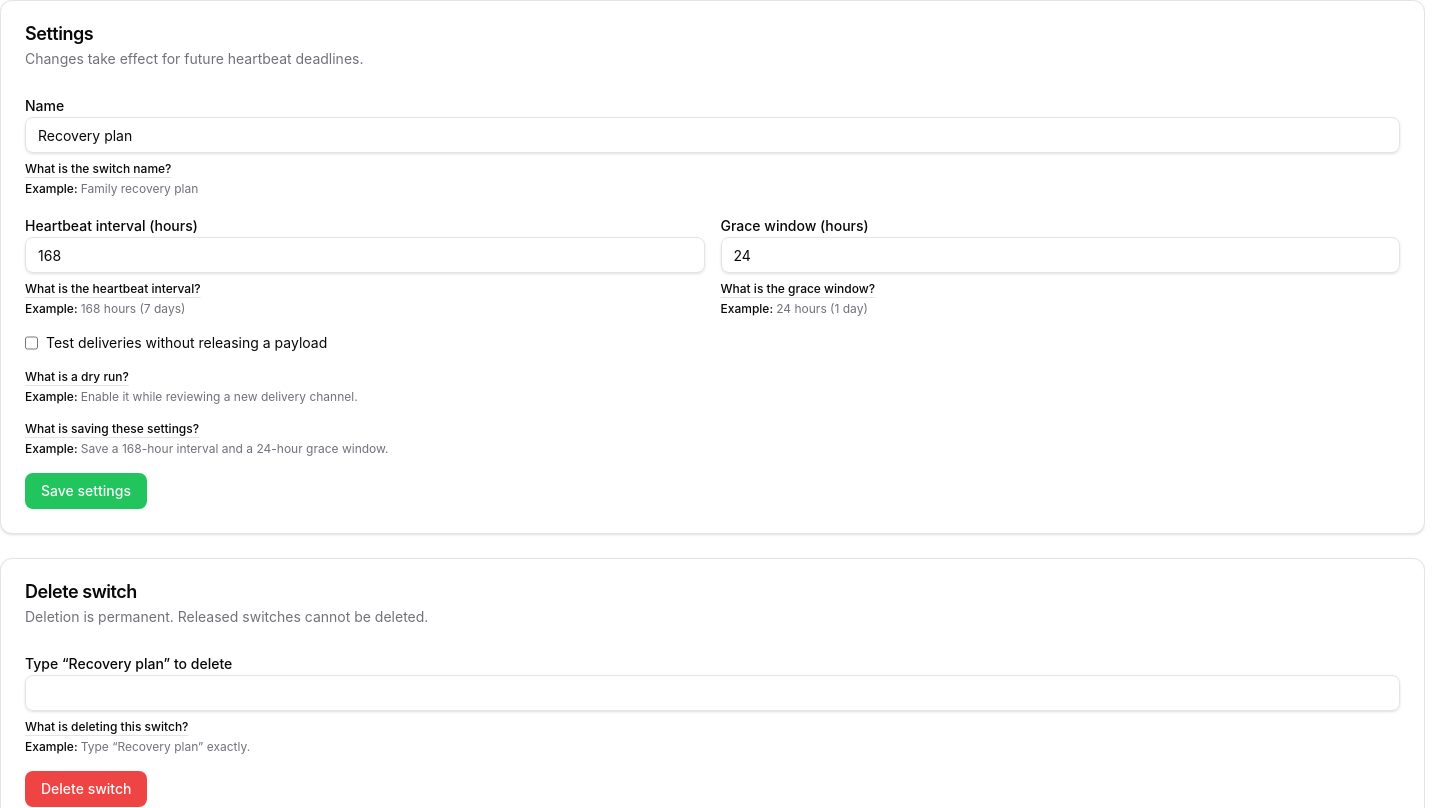
Test: SwitchSettings › explains when the saved title already exists for the owner
The width and height of the screenshot is (1440, 808).
Replace the text in the field labelled "Name" with "Existing plan": (712,135) [25, 117, 1400, 153]
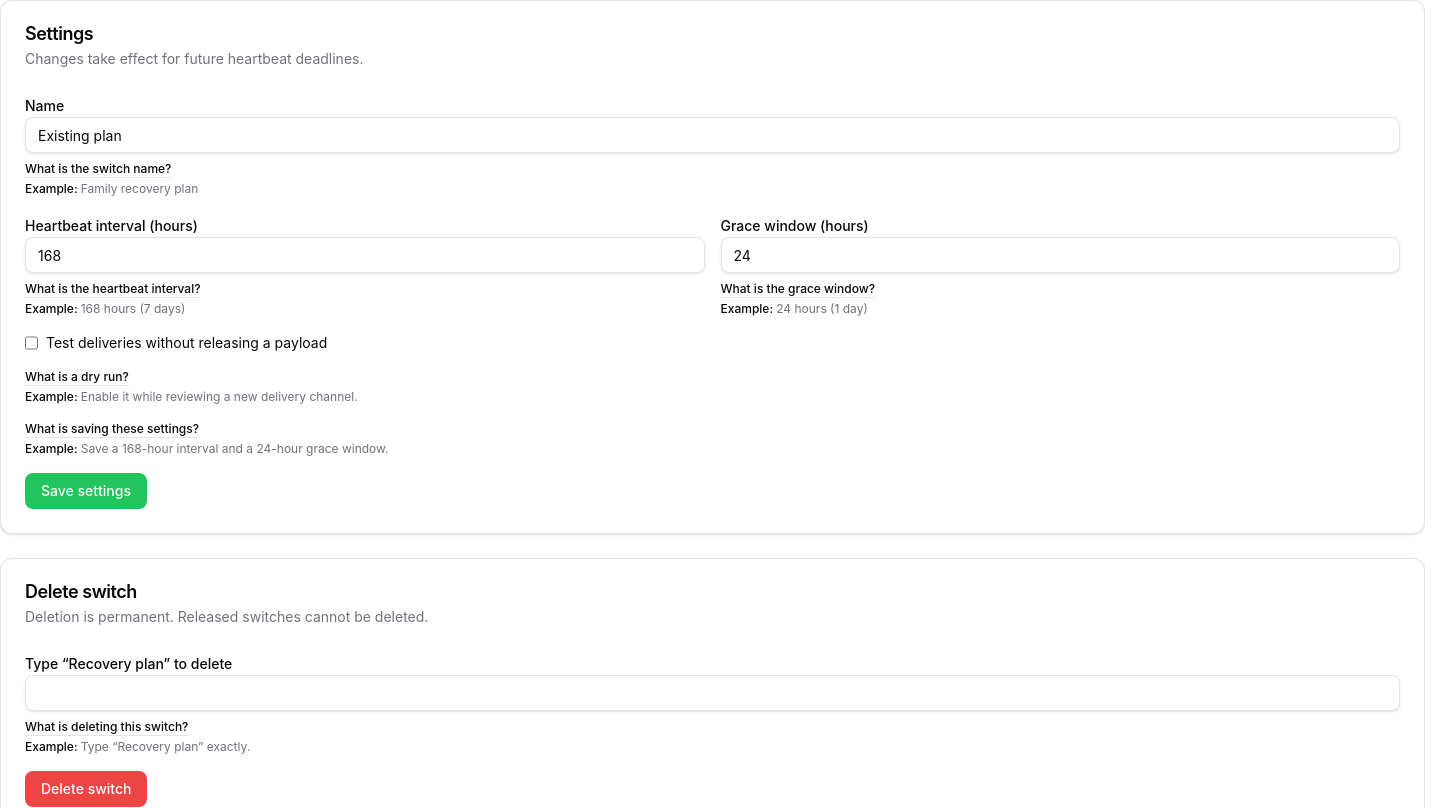
Click the button "Save settings": (86,491) [25, 473, 147, 509]
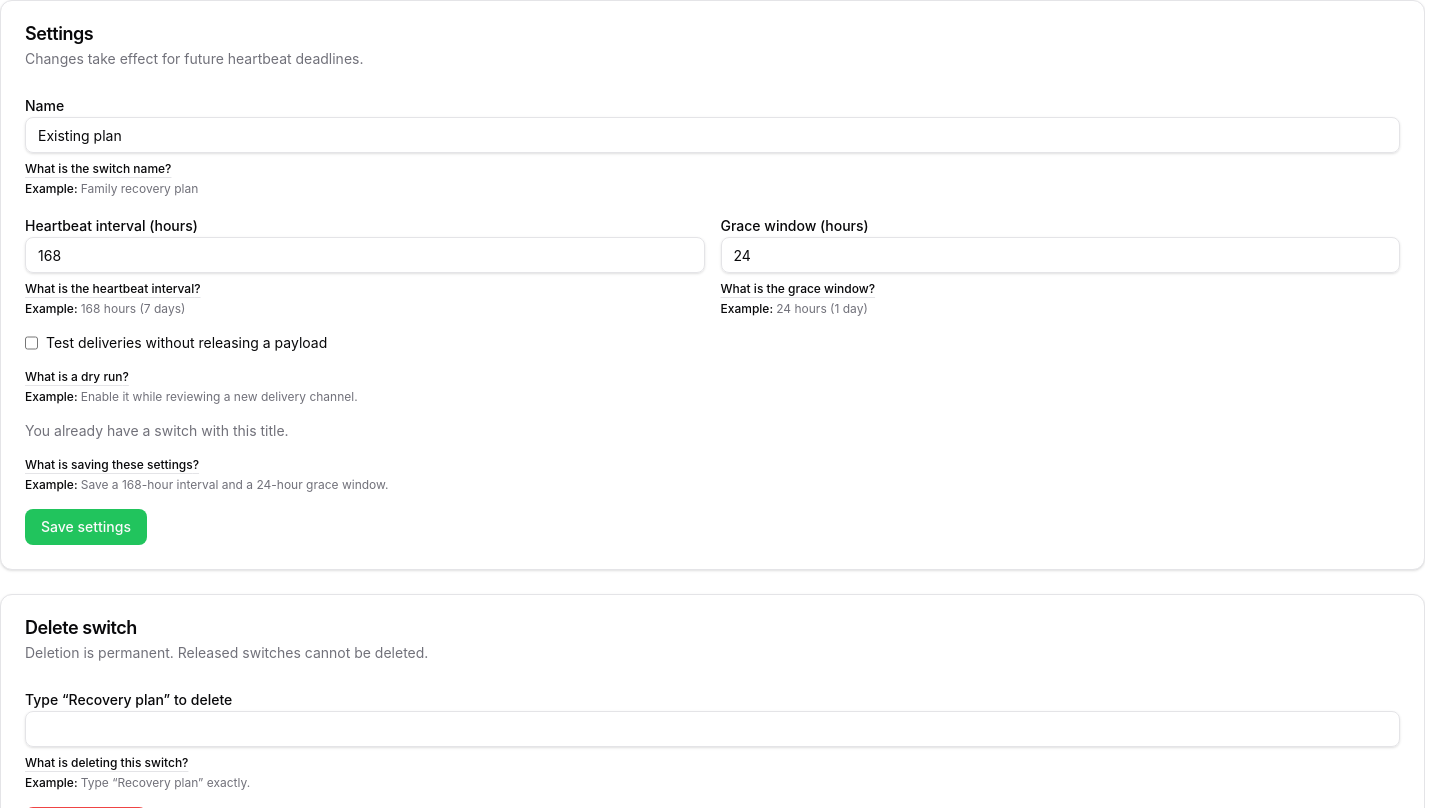
Check: the message reads "You already have a switch with this title.", box [25, 422, 289, 439]
